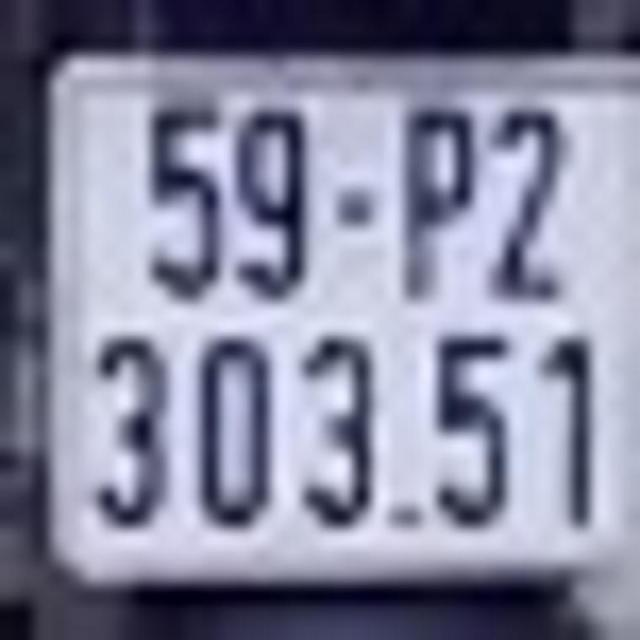0: (200, 330, 274, 533)
1: (543, 326, 595, 528)
2: (487, 105, 572, 304)
3: (96, 332, 174, 524), (304, 326, 376, 528)
5: (142, 93, 228, 304), (432, 329, 504, 522)
9: (232, 96, 311, 301)
P: (391, 100, 484, 312)
